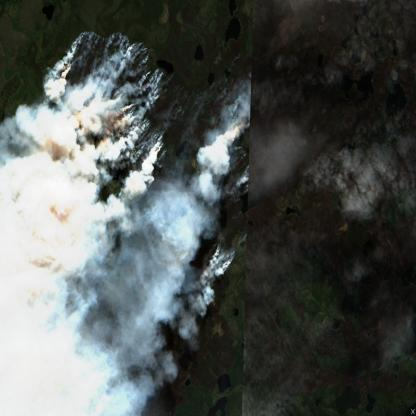fire: (36, 29, 176, 193), (207, 67, 255, 171), (198, 230, 245, 291)
